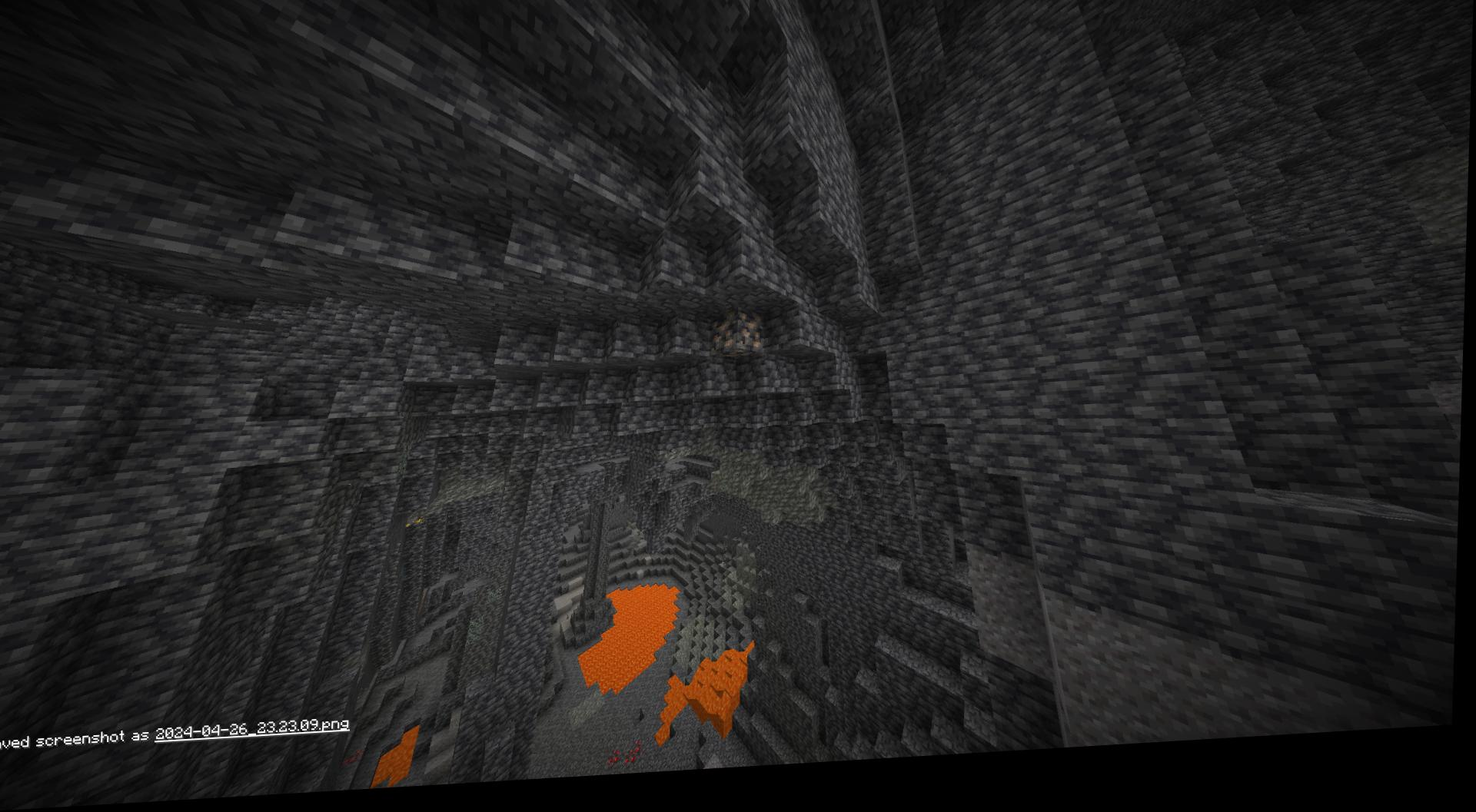iron ore: (709, 317, 763, 369)
redstone ore: (608, 745, 655, 779)
